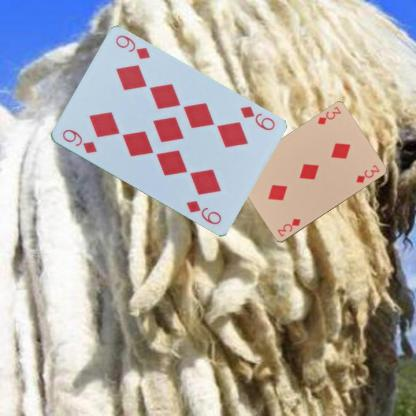3d: (275, 216, 302, 238), (315, 104, 342, 126)
9d: (59, 127, 98, 156), (237, 104, 276, 132)
